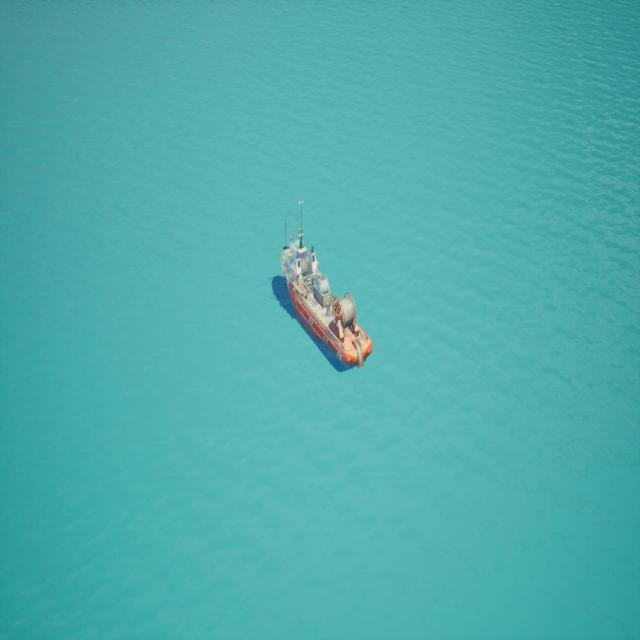tug boat: (274, 200, 358, 372)
